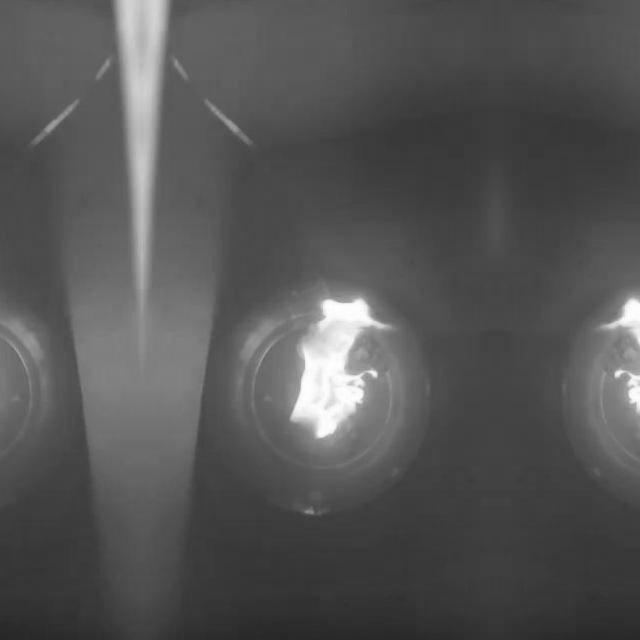smoke: (286, 294, 390, 439), (601, 294, 640, 439)
